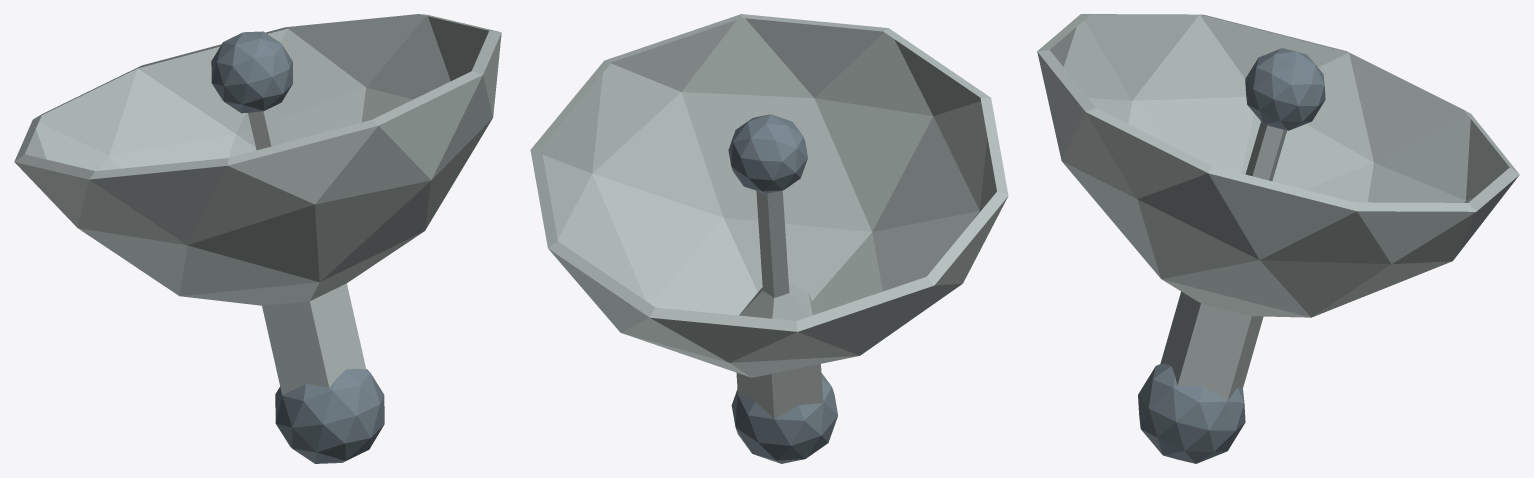
File: Hab_Dish 2.fbx
3 renders of one model, left to right at view 1: azimuth 30°, elevation 25°; view 2: azimuth 150°, elevation 25°; view 3: azimuth 270°, elevation 25°, orthographic. The views are drawn at different scales.
Visible parts, largest first — view 1: Sattlelight dish; view 2: Sattlelight dish; view 3: Sattlelight dish.
Boxes of the visible parts, x1,y1,x2,y2 form: Sattlelight dish: [14, 14, 501, 463]; Sattlelight dish: [530, 14, 1008, 463]; Sattlelight dish: [1037, 14, 1519, 463].
Size of the model in its own units: 151 by 138 by 153.
